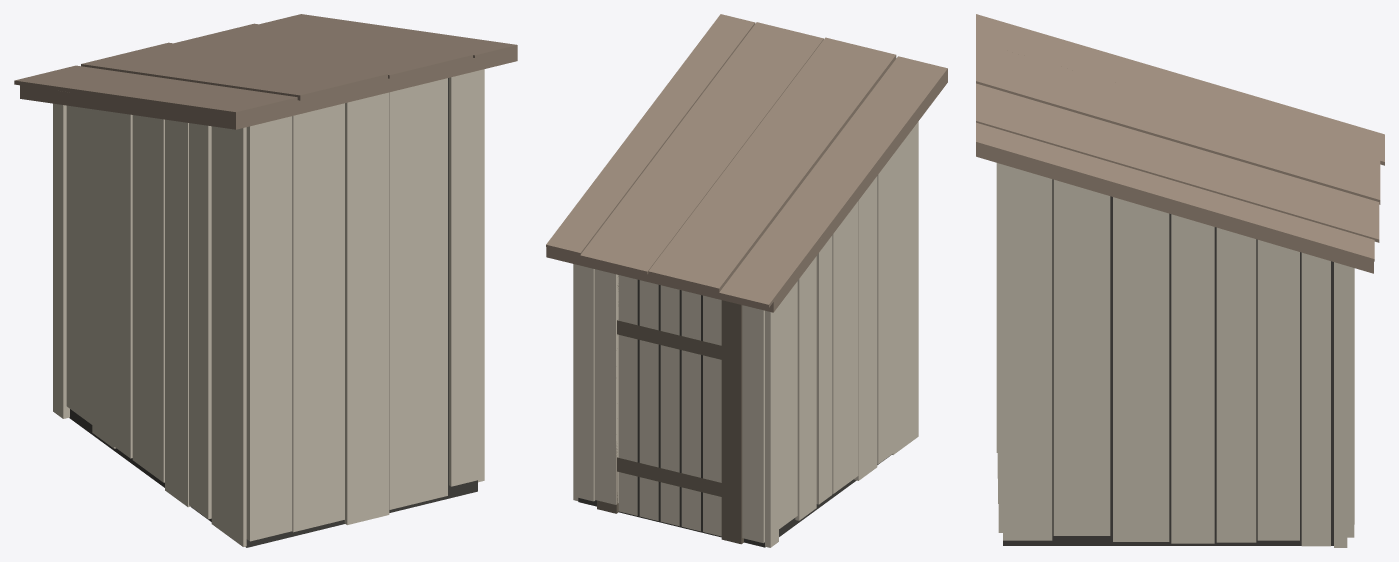
Rendered from recon_1835_west_025__inferred_1835.glb.
3 renders of one model, left to right at view 1: azimuth 30°, elevation 25°; view 2: azimuth 150°, elevation 25°; view 3: azimuth 270°, elevation 25°, orthographic. The views are drawn at different scales.
Visible parts, largest first — view 1: recon_1835_west_025__inferred_1835; view 2: recon_1835_west_025__inferred_1835; view 3: recon_1835_west_025__inferred_1835.
Part boxes in pixels (bbox=[...]): recon_1835_west_025__inferred_1835: bbox=[14, 14, 517, 547]; recon_1835_west_025__inferred_1835: bbox=[546, 14, 947, 547]; recon_1835_west_025__inferred_1835: bbox=[976, 14, 1384, 547].
Bounding box in the file's own units: 1.86 × 2.86 × 2.53.
